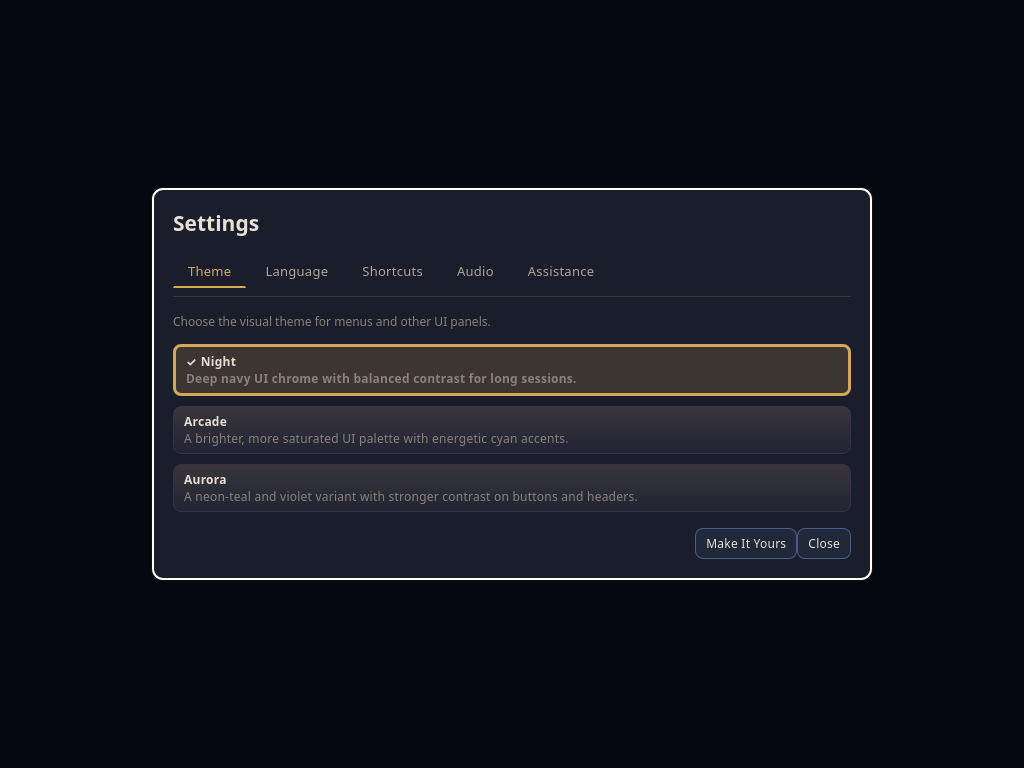
the Audio tab › is a real tab in the settings tablist, with its panel the only one mounted
Click the tab "Audio" at (475, 271), box [442,255,509,288]
(page scrolled)
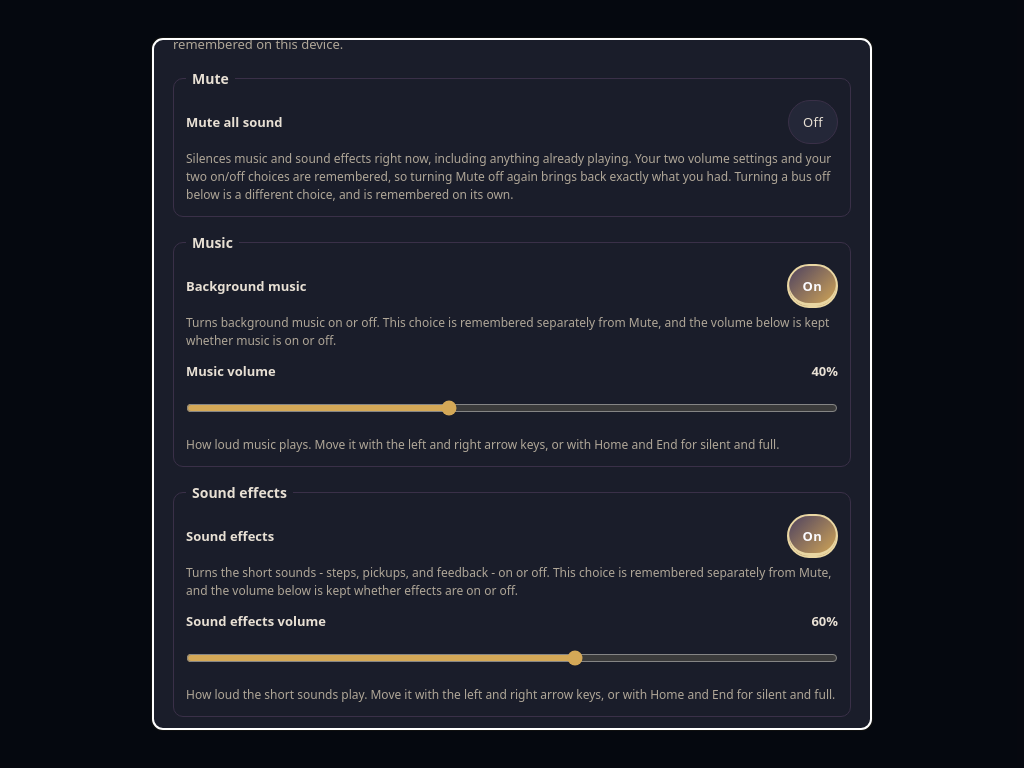
Check: the panel named "Audio settings" is shown, box [173,38,851,730]
